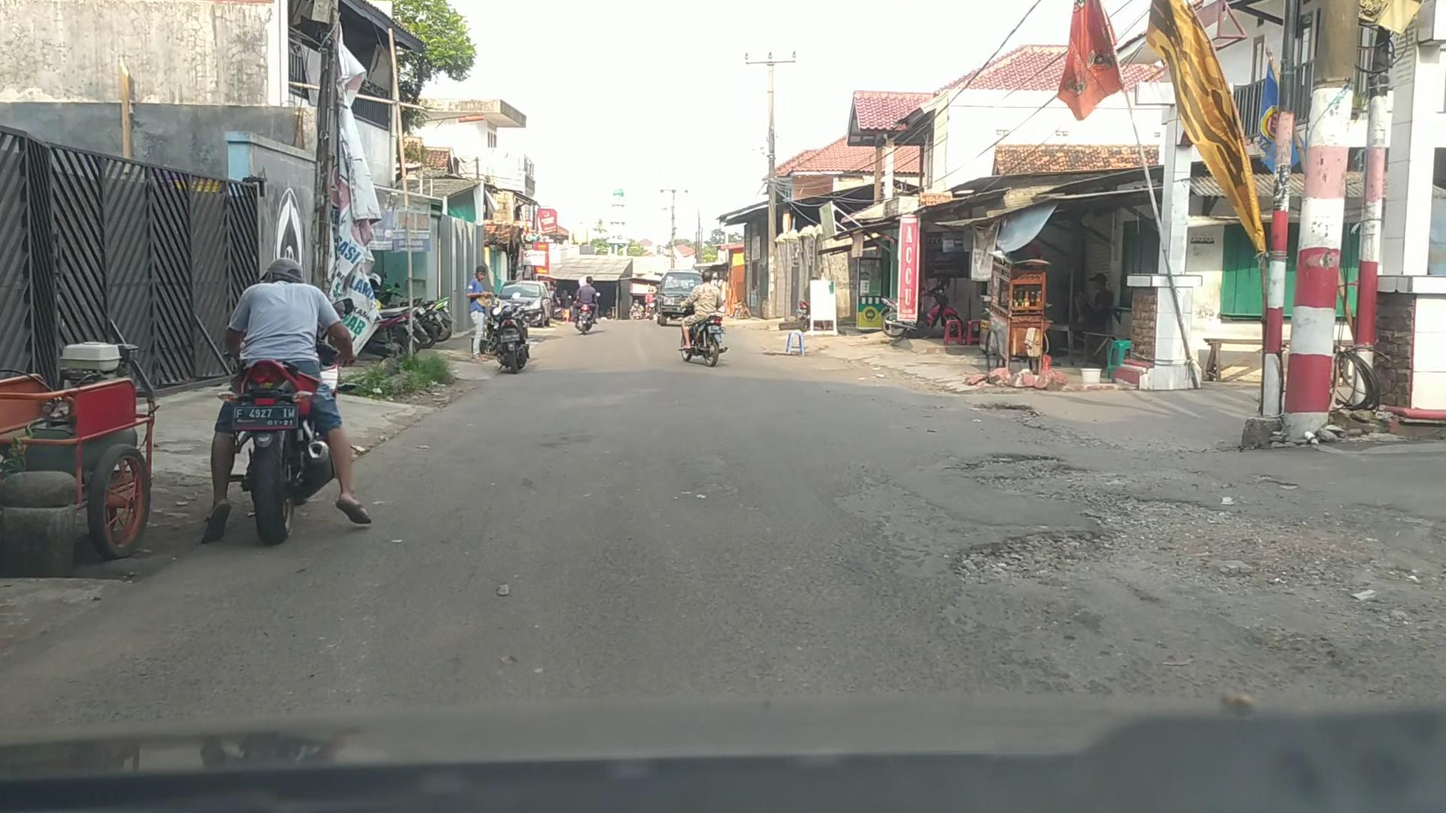pothole: (947, 487, 1446, 660), (949, 450, 1096, 485), (1242, 470, 1302, 491)
